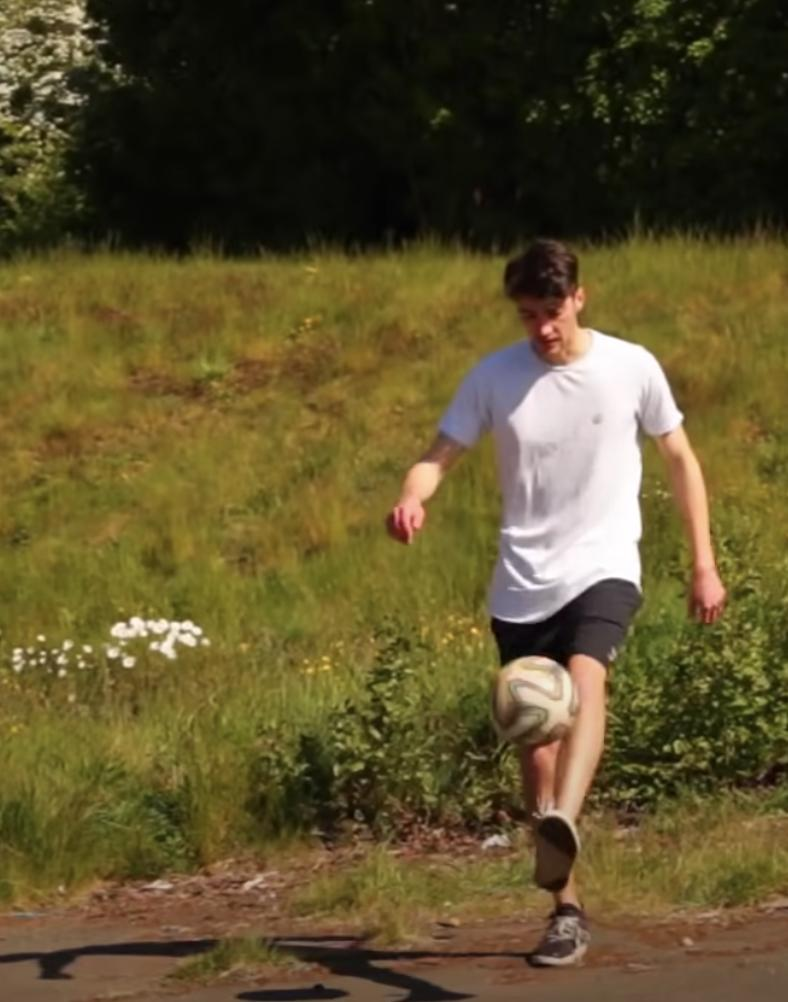ball: (494, 657, 577, 746)
foot: (526, 904, 590, 967), (534, 813, 576, 889)
person: (391, 240, 726, 968)
